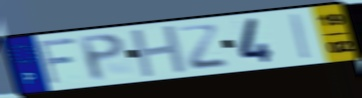4: (237, 16, 279, 67)
F: (36, 36, 79, 87)
H: (129, 23, 191, 80)
I: (290, 12, 314, 62)
P: (76, 31, 127, 83)
Z: (175, 23, 231, 72)
